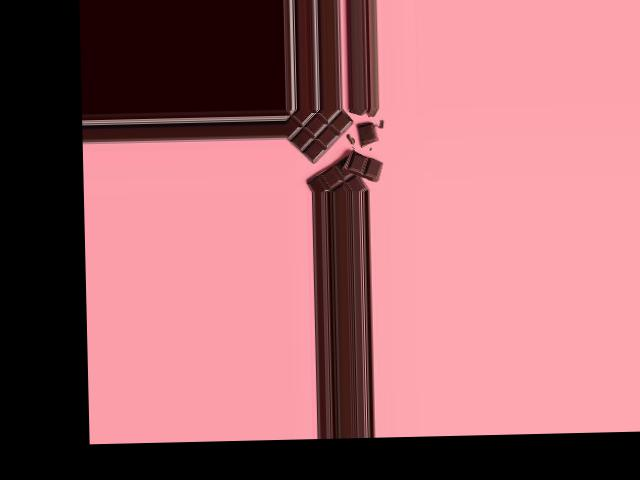chocolate: (284, 108, 377, 187)
